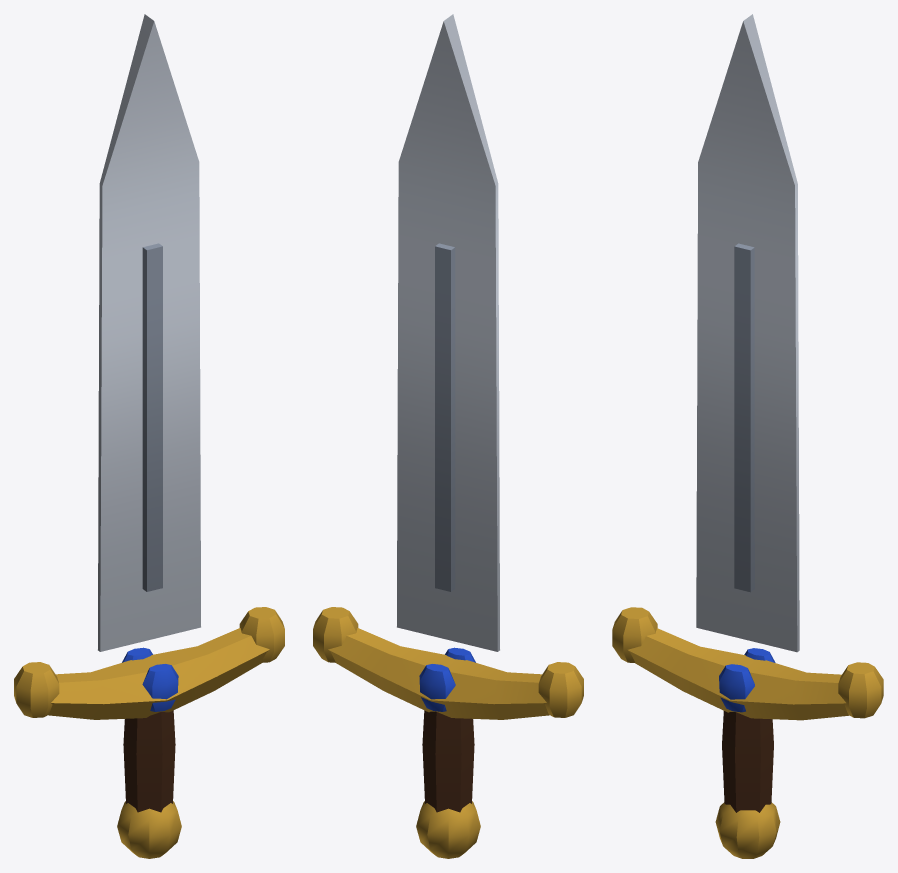
The model's file is Weapon_WarriorSword.fbx.
The picture shows the model from 3 angles, left to right: view 1: azimuth 30°, elevation 25°; view 2: azimuth 150°, elevation 25°; view 3: azimuth 330°, elevation 25°; orthographic projection.
Visible parts, largest first — view 1: RoyalSword; view 2: RoyalSword; view 3: RoyalSword.
Part boxes in pixels (left/top/right/bottom): RoyalSword: left=14, top=14, right=284, bottom=858; RoyalSword: left=313, top=14, right=583, bottom=858; RoyalSword: left=612, top=14, right=883, bottom=858.
Bounding box in the file's own units: 0.2242 × 0.6715 × 0.052.
